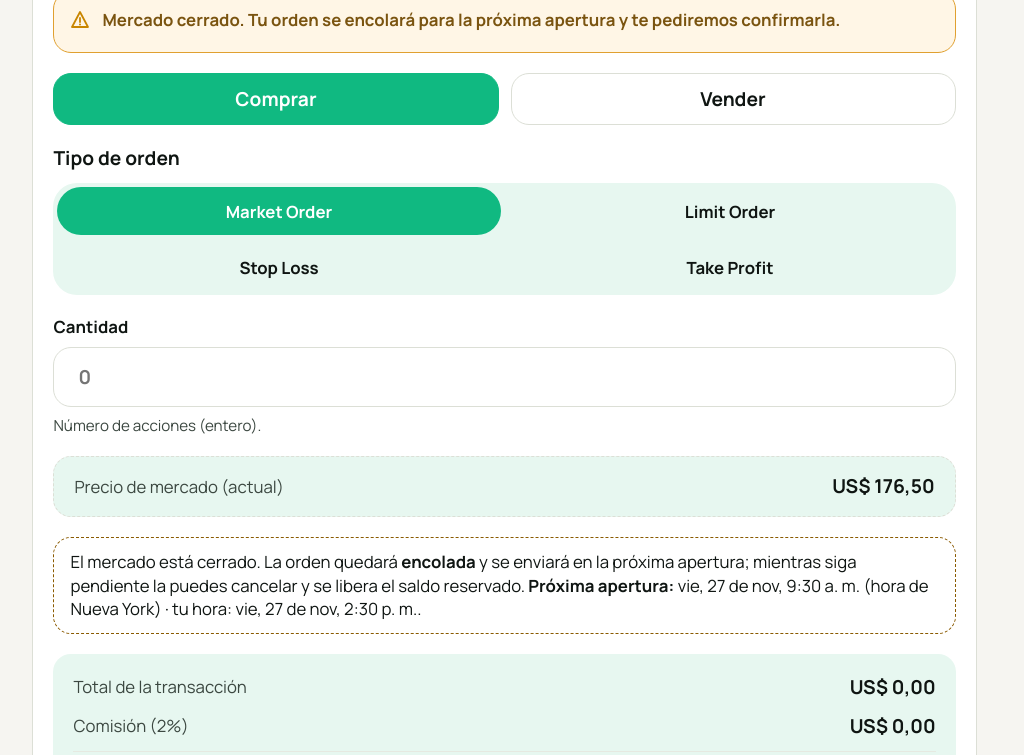
Test: órdenes avanzadas y encolamiento (SCRUM-64) › la confirmación del encolamiento repite la apertura con la hora del mercado
The image size is (1024, 755).
(page scrolled)
Type "1" into the field labelled "Cantidad".
click(505, 377); type("1")  # box [70,348,939,406]
(page scrolled)
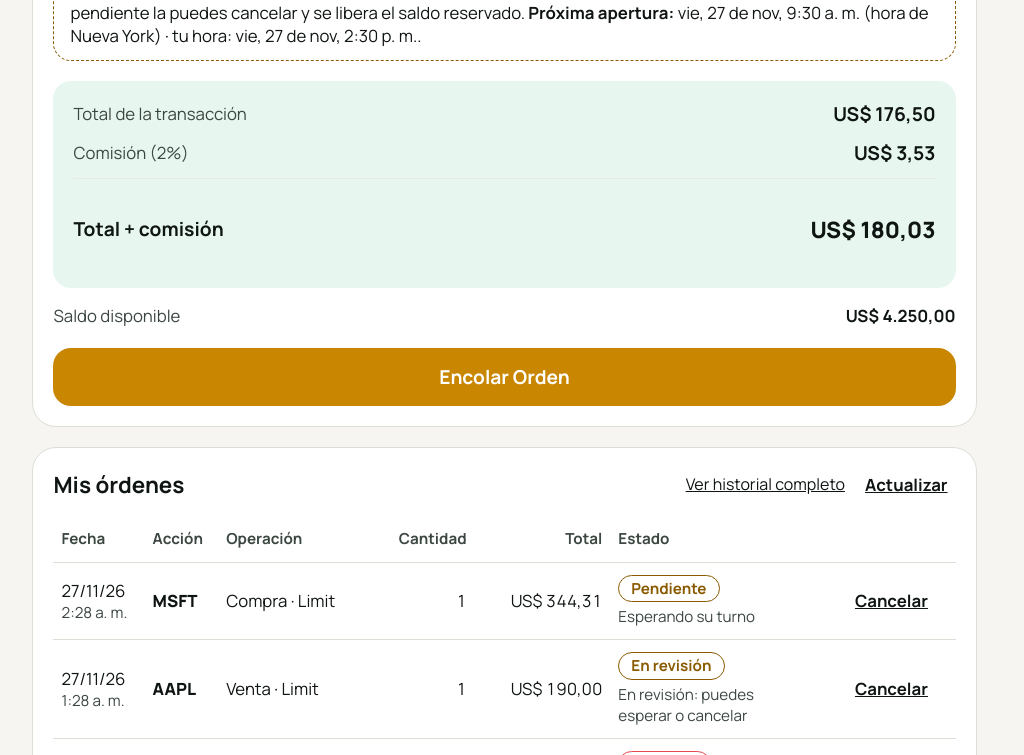
Click the button "Encolar Orden".
click(505, 376)  # box [54,348,956,406]
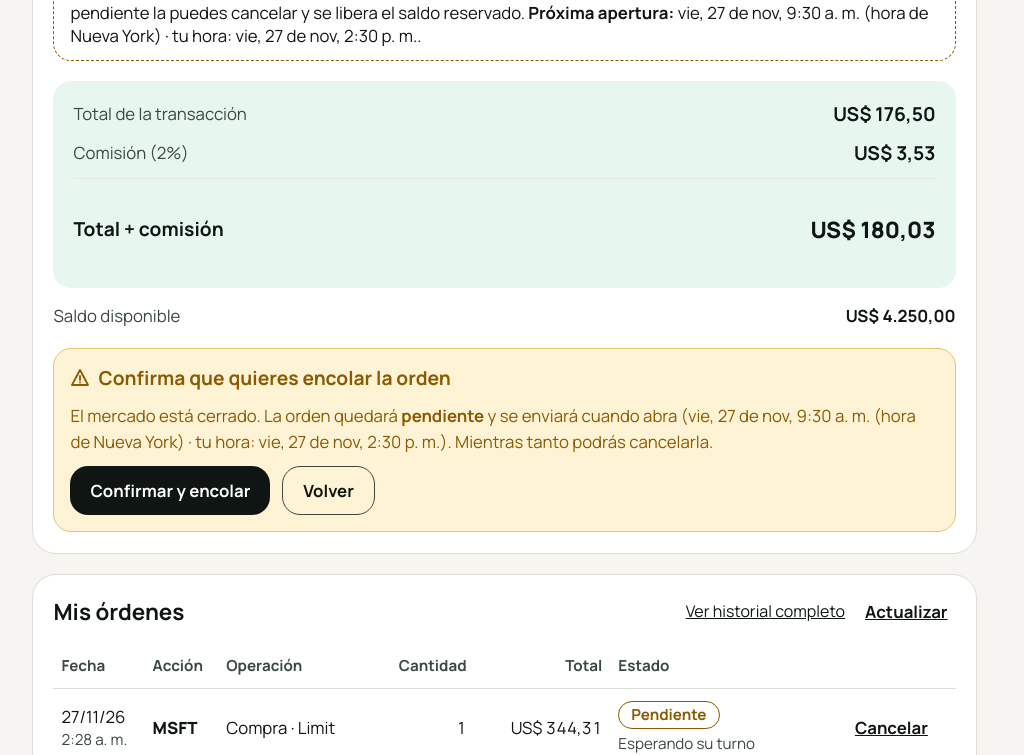
Expected: the dialog named "confirmar encolamiento" shows "hora de Nueva York", [70,404,916,453]
Expected: the dialog named "confirmar encolamiento" shows "pendiente", [401,404,484,427]
Expected: the button "Confirmar y encolar" is shown, [70,466,270,515]
